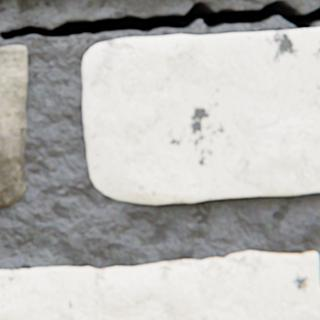brick: (82, 28, 319, 203), (0, 250, 319, 319), (0, 45, 27, 206)
crack: (0, 0, 319, 40)
